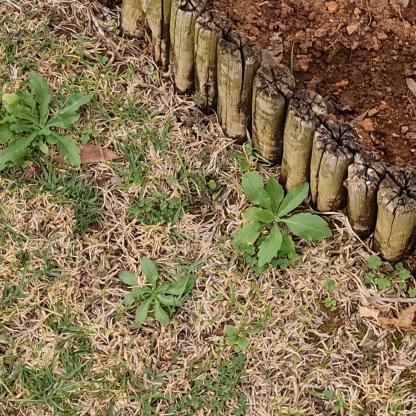Weeds: (0, 71, 94, 176), (233, 171, 331, 269), (121, 258, 196, 328), (226, 323, 251, 350)
